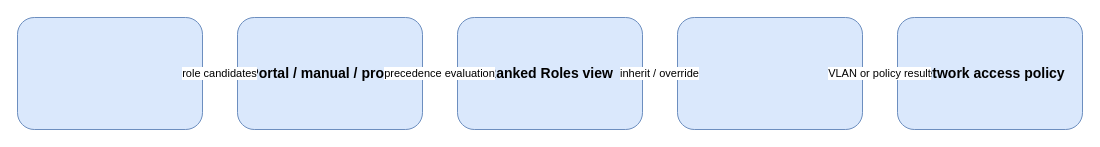
Some shapes in this 1100 by 147 pixel diagram are drawn without their labels. The centre of each missing label's shape, as x and y in pixels:
"Directory attributes / groups" belongs at point 109,73.
"Effective user / host role" belongs at point 769,73.
